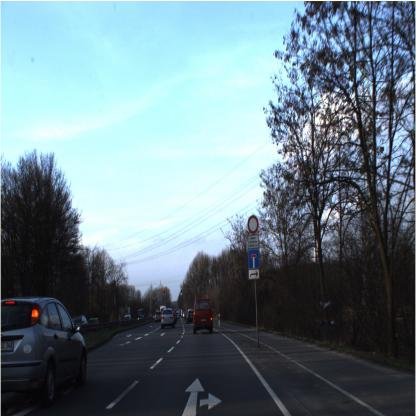Interzis in ambele sensuri: (246, 212, 260, 236)
